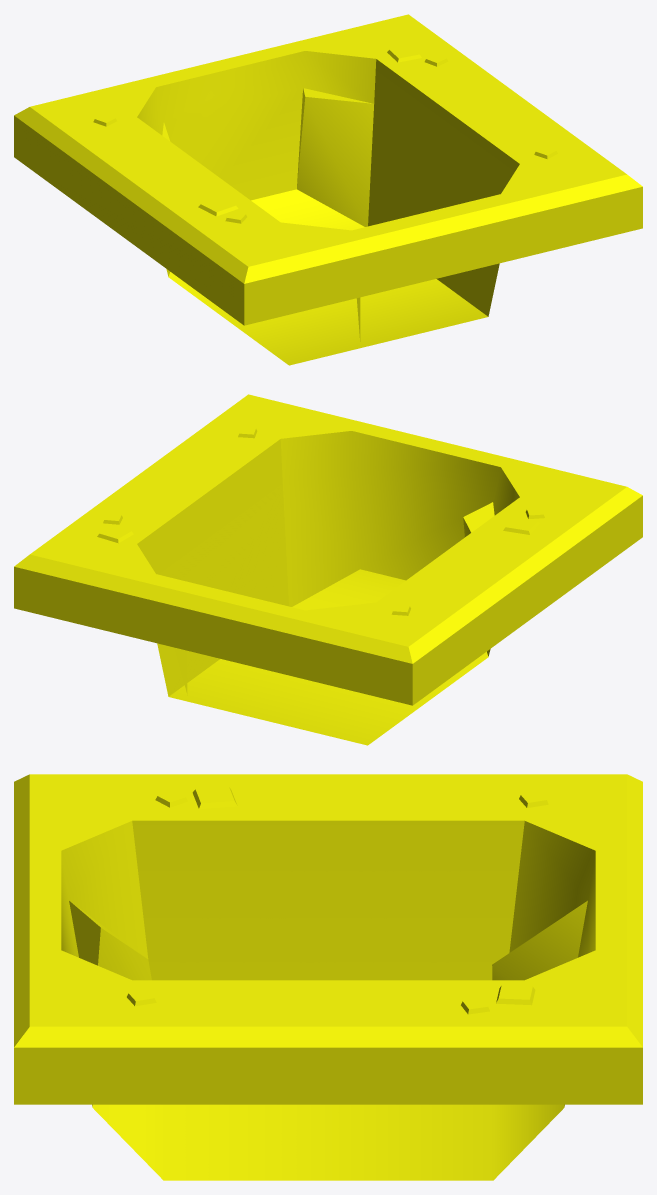
File: kaykit-floor-dirt-grave.glb
The picture shows the model from 3 angles, top to bottom: view 1: azimuth 30°, elevation 25°; view 2: azimuth 150°, elevation 25°; view 3: azimuth 270°, elevation 25°; orthographic projection. The views are drawn at different scales.
Visible parts, largest first — view 1: floor_dirt_grave; view 2: floor_dirt_grave; view 3: floor_dirt_grave.
Part boxes in pixels (x1,y1,x2,y2): floor_dirt_grave: (14, 14, 642, 365); floor_dirt_grave: (14, 394, 642, 745); floor_dirt_grave: (14, 774, 642, 1180).
Bounding box in the file's own units: 4 × 1.53 × 4.
